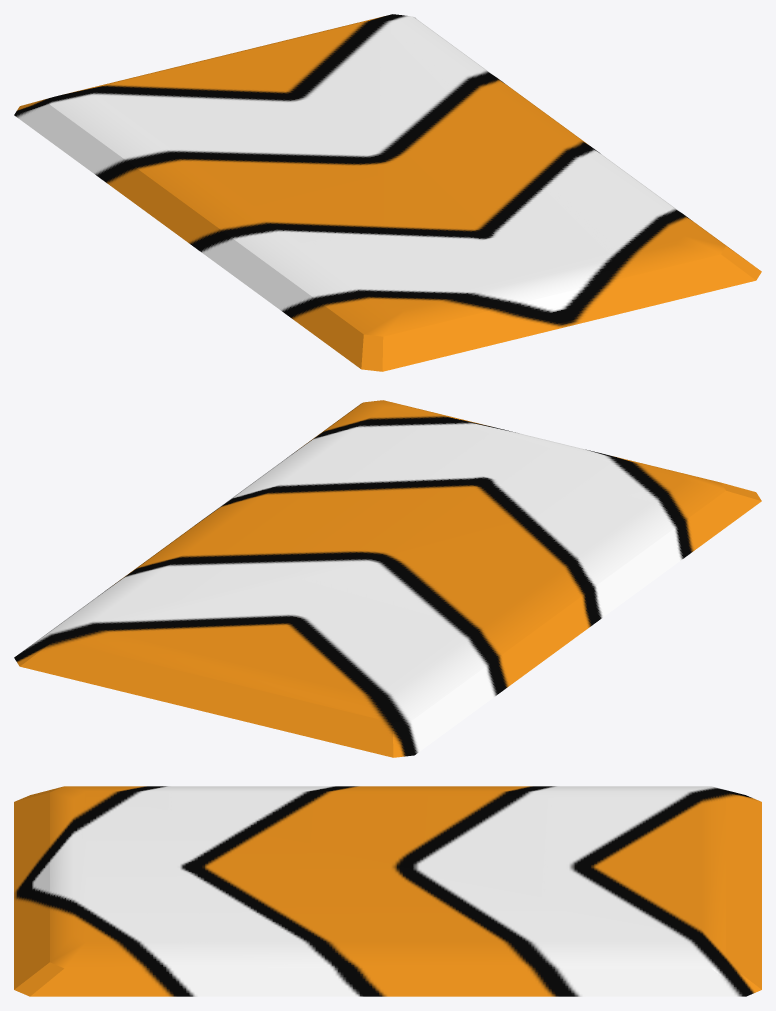
The model's file is O_Boost pad1.fbx.
3 views of the same model, one above another, from view 1: azimuth 30°, elevation 25°; view 2: azimuth 150°, elevation 25°; view 3: azimuth 270°, elevation 25° (orthographic). The views are drawn at different scales.
Parts seen in each view (by area): view 1: pCube1; view 2: pCube1; view 3: pCube1.
Boxes of the visible parts, x1,y1,x2,y2 form: pCube1: [14, 14, 761, 371]; pCube1: [14, 400, 761, 757]; pCube1: [14, 786, 761, 996].
Bounding box in the file's own units: 476 × 32 × 747.
